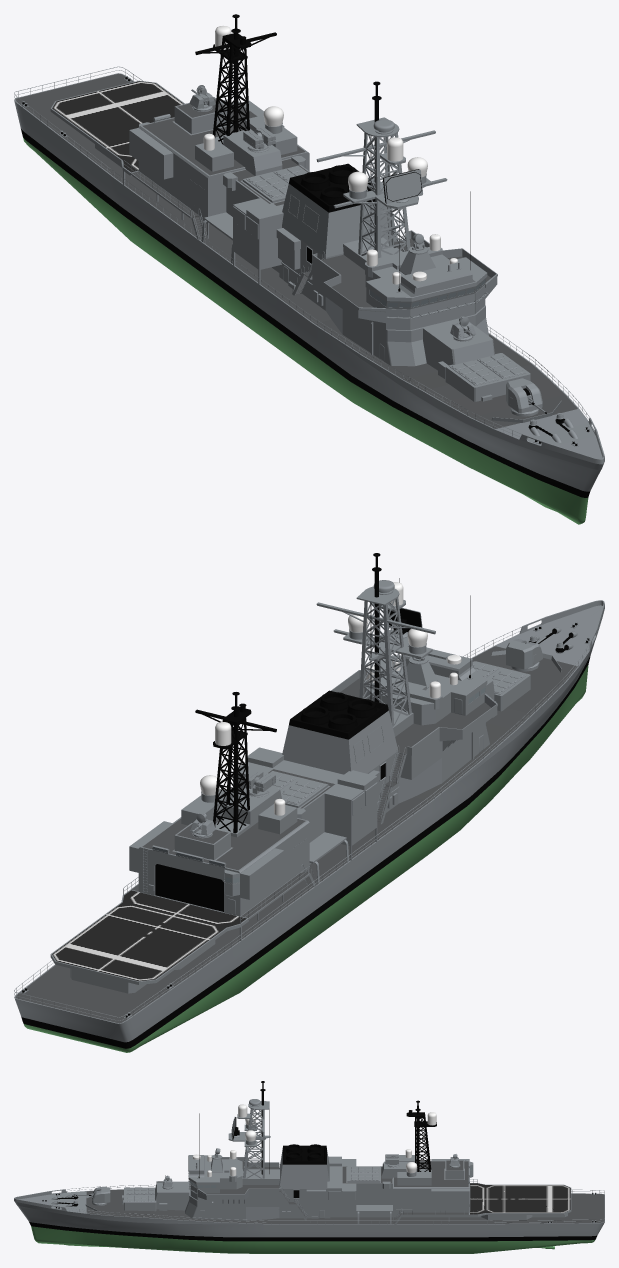
The model's file is destroyer.glb.
3 views of the same model, one above another, from view 1: azimuth 30°, elevation 25°; view 2: azimuth 150°, elevation 25°; view 3: azimuth 270°, elevation 25° (orthographic). The views are drawn at different scales.
Visible parts, largest first — view 1: destroyer_blue, destroyer_blue_radar, destroyer_blue_turret; view 2: destroyer_blue, destroyer_blue_turret; view 3: destroyer_blue, destroyer_blue_turret.
Part boxes in pixels (x1,y1,x2,y2): destroyer_blue: [14, 14, 604, 524]; destroyer_blue_radar: [383, 169, 422, 203]; destroyer_blue_turret: [506, 378, 542, 413]; destroyer_blue: [14, 553, 604, 1052]; destroyer_blue_turret: [506, 639, 542, 669]; destroyer_blue: [14, 1081, 604, 1253]; destroyer_blue_turret: [92, 1187, 110, 1202].
Size of the model in its own units: 22.25 by 45.22 by 149.
Materials: 7 (1 with a texture image).
